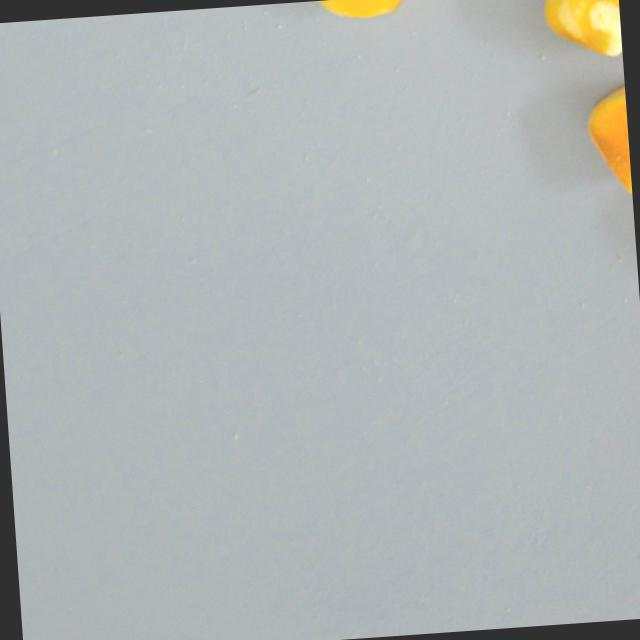no_canjicado: (538, 0, 622, 62), (308, 0, 422, 20)
pelicula: (582, 80, 632, 196)
